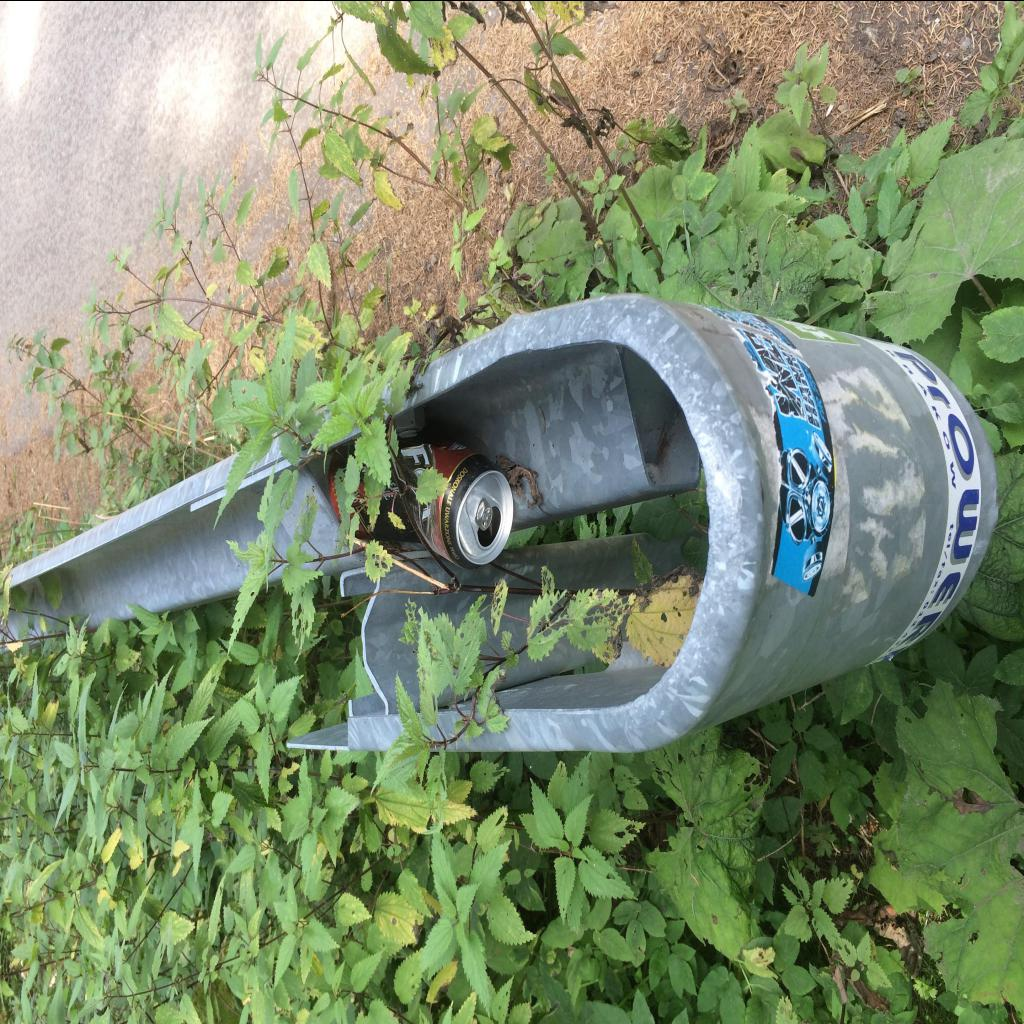Drink can: (328, 435, 514, 569)
Pop tab: (474, 496, 492, 530)
